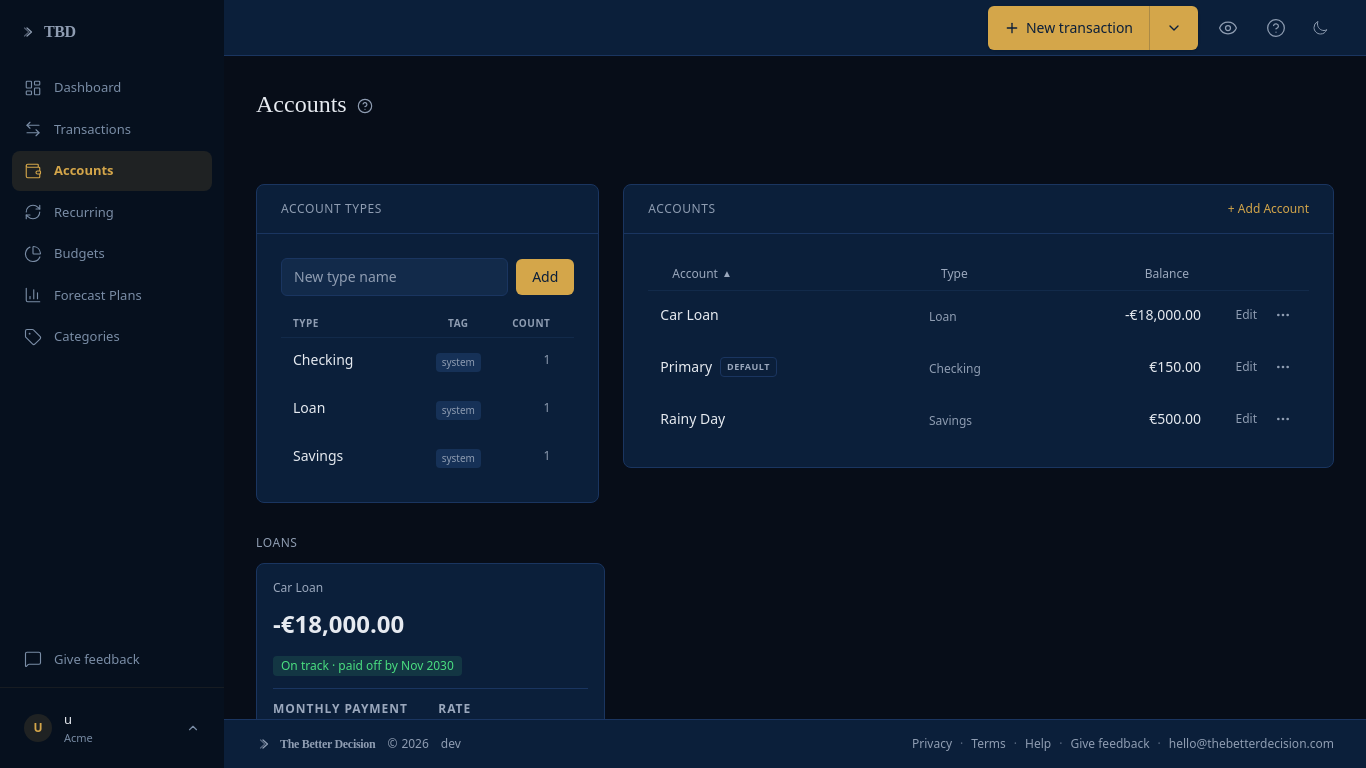
Test case: Loan Model — form fields › non-loan edit row shows none of the loan fields
Click the button "Edit" next to "€150.00" at (1246, 367), box top-left (1236, 359), bottom-right (1257, 375)
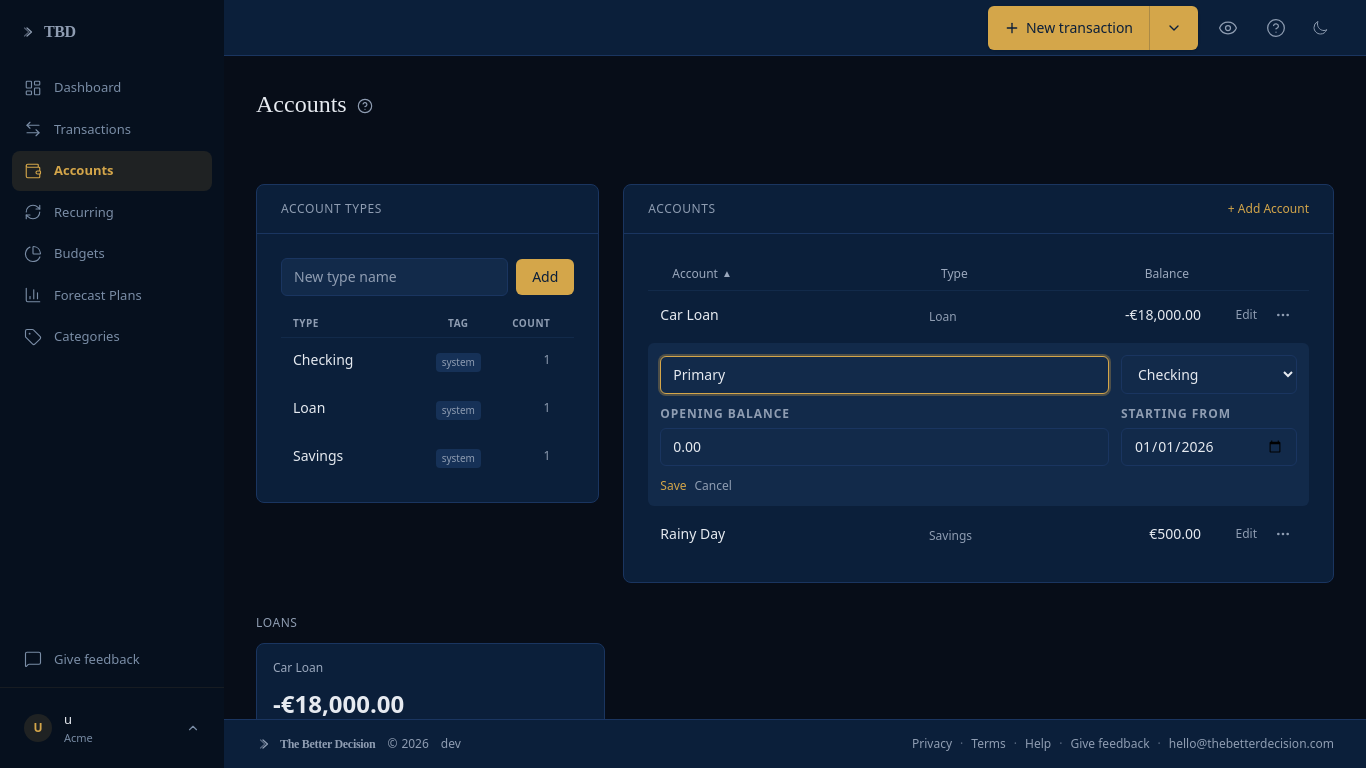
Expected: the dropdown named "Account type" is shown, top-left (1121, 355), bottom-right (1297, 394)
